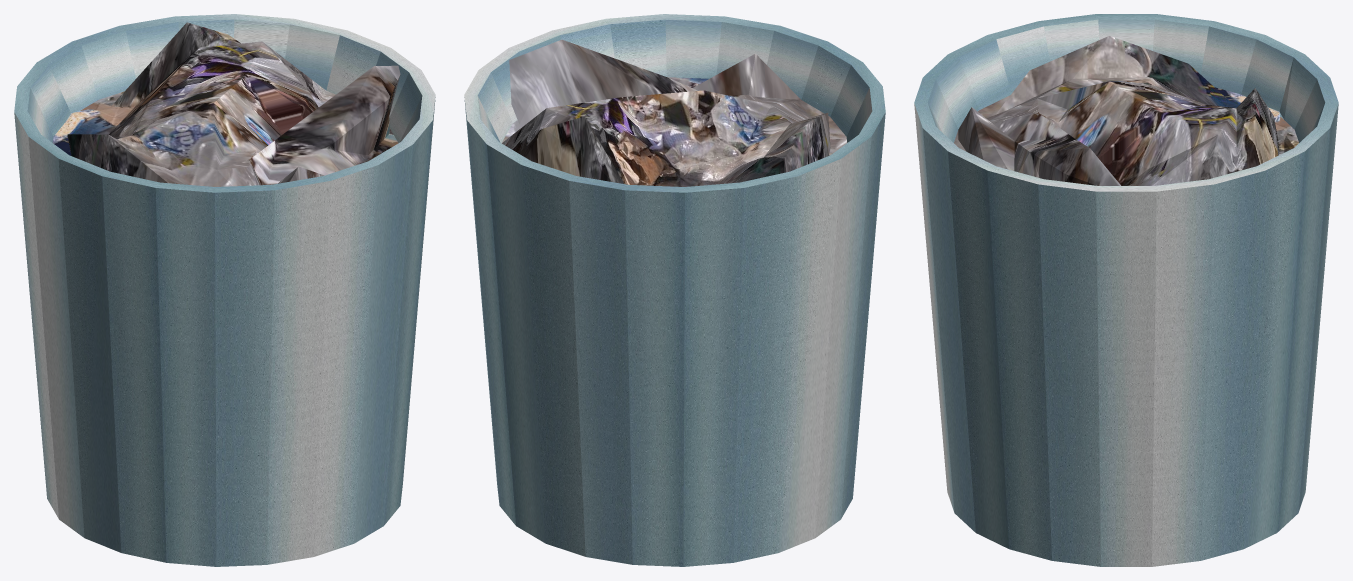
File: Cubo basura.dae
The picture shows the model from 3 angles, left to right: view 1: azimuth 30°, elevation 25°; view 2: azimuth 150°, elevation 25°; view 3: azimuth 270°, elevation 25°; orthographic projection.
Visible parts, largest first — view 1: Cylinder; view 2: Cylinder; view 3: Cylinder.
Boxes of the visible parts, left/top/right/bottom form: Cylinder: left=14, top=14, right=435, bottom=566; Cylinder: left=464, top=14, right=885, bottom=566; Cylinder: left=914, top=14, right=1338, bottom=566.
Size of the model in its own units: 2.35 by 2.37 by 2.57.
